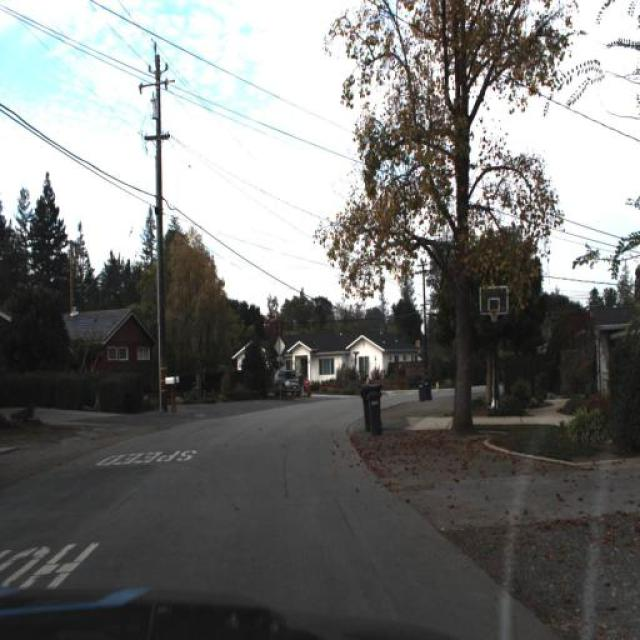car: (276, 367, 302, 403), (298, 370, 316, 402)
trafficLight: (361, 362, 370, 390)
